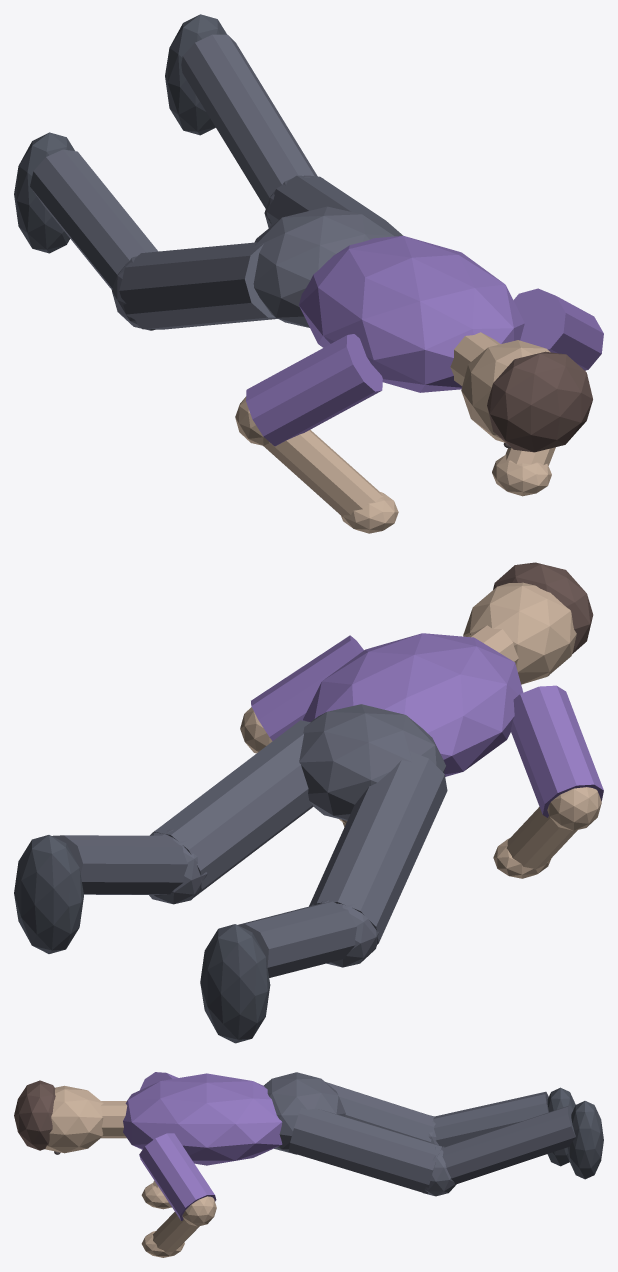
3 renders of one model, top to bottom at view 1: azimuth 30°, elevation 25°; view 2: azimuth 150°, elevation 25°; view 3: azimuth 270°, elevation 25°, orthographic. The views are drawn at different scales.
Parts seen in each view (by area): view 1: world; view 2: world; view 3: world.
Part boxes in pixels (box(x1,y1,x2,y2)): world: box(14, 14, 603, 533); world: box(14, 562, 603, 1043); world: box(14, 1072, 603, 1257).
Size of the model in its own units: 0.93 by 0.5928 by 2.04.
